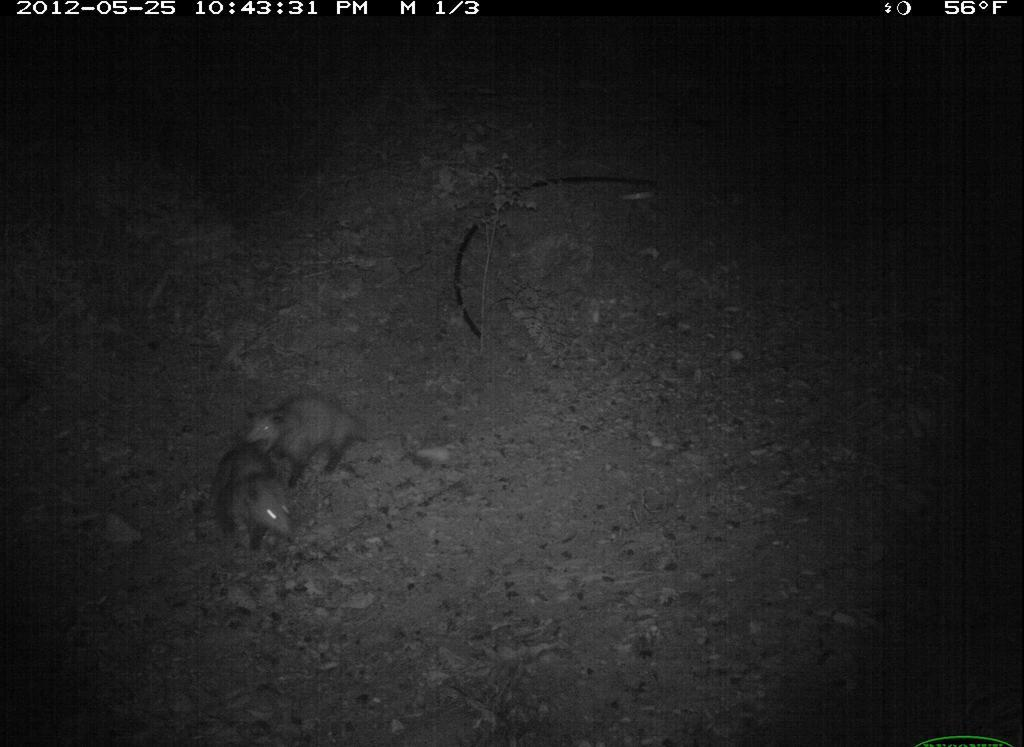opossum: (237, 379, 397, 478), (205, 433, 313, 559)
